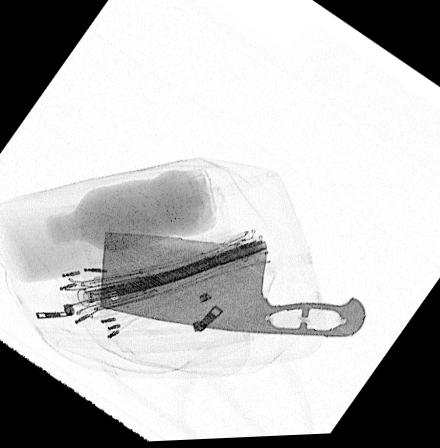Knife: (97, 230, 367, 342)
